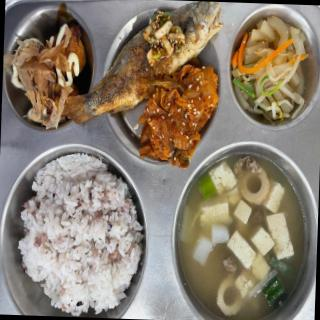Nasi: (23, 157, 148, 320)
